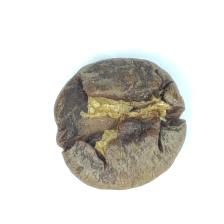NG: (67, 74, 179, 183)
